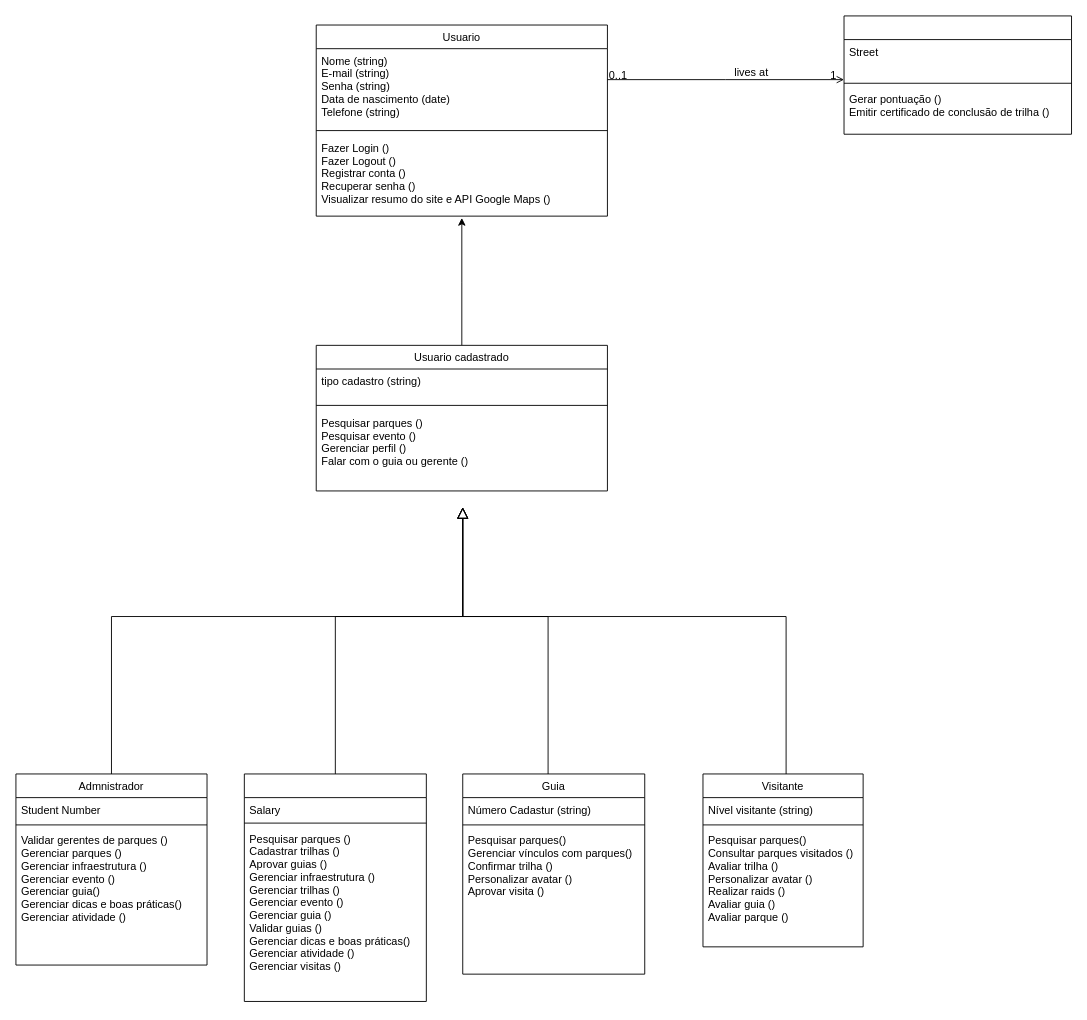
The diagram is 1087 pixels wide and 1020 high, and some of its shapes have lost their labels. Each missing label, with the box of its shape:
Gerente: (243, 773, 426, 1001)
Sistema: (843, 15, 1072, 134)
